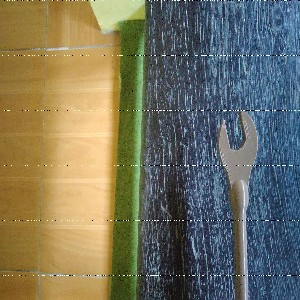spanner: (218, 111, 258, 300)
